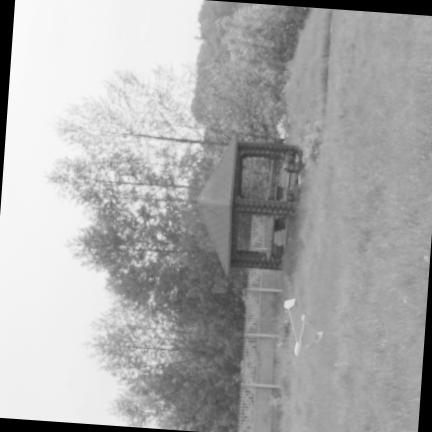Shahed: (284, 298, 322, 353)
